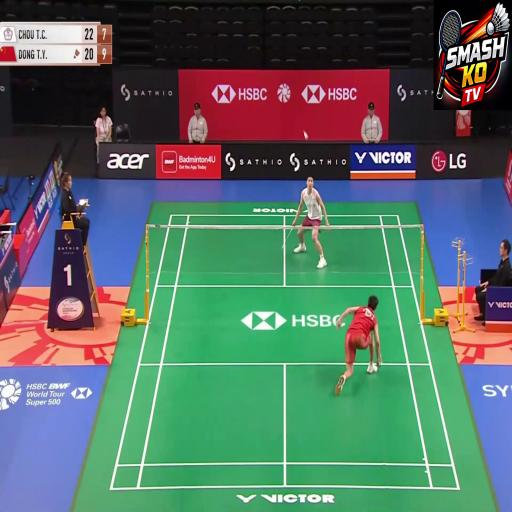player: (338, 261, 381, 405), (291, 154, 333, 296)
